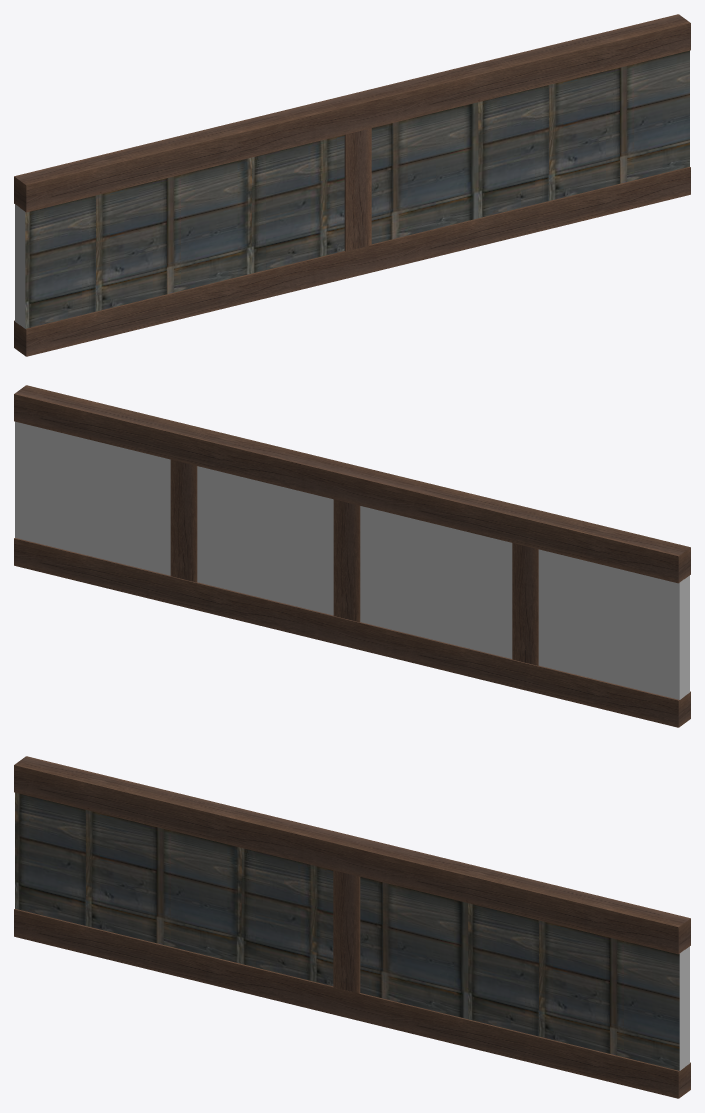
The model's file is yane_frame_side_2t_a.fbx.
The picture shows the model from 3 angles, top to bottom: view 1: azimuth 30°, elevation 25°; view 2: azimuth 150°, elevation 25°; view 3: azimuth 330°, elevation 25°; orthographic projection.
Visible parts, largest first — view 1: yane_frame_side_2t_a; view 2: yane_frame_side_2t_a; view 3: yane_frame_side_2t_a.
Part boxes in pixels (box(x1,y1,x2,y2)): yane_frame_side_2t_a: box(14, 14, 690, 356); yane_frame_side_2t_a: box(14, 385, 690, 727); yane_frame_side_2t_a: box(14, 756, 690, 1098).
Size of the model in its own units: 440 by 109 by 14.1.
